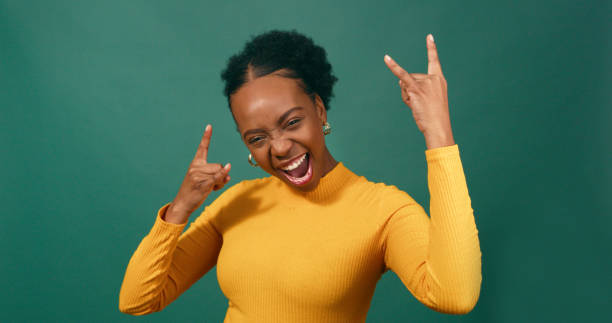Rock On: (380, 19, 478, 132)
